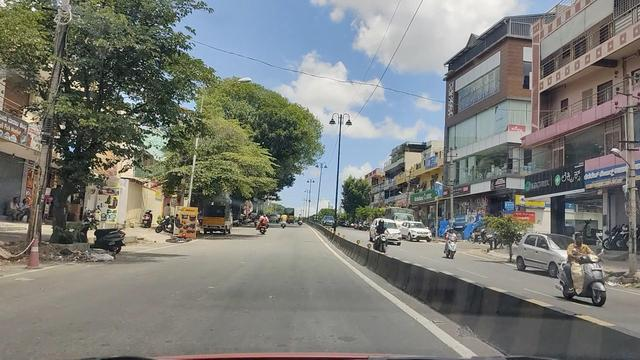HMV: (199, 191, 230, 240)
